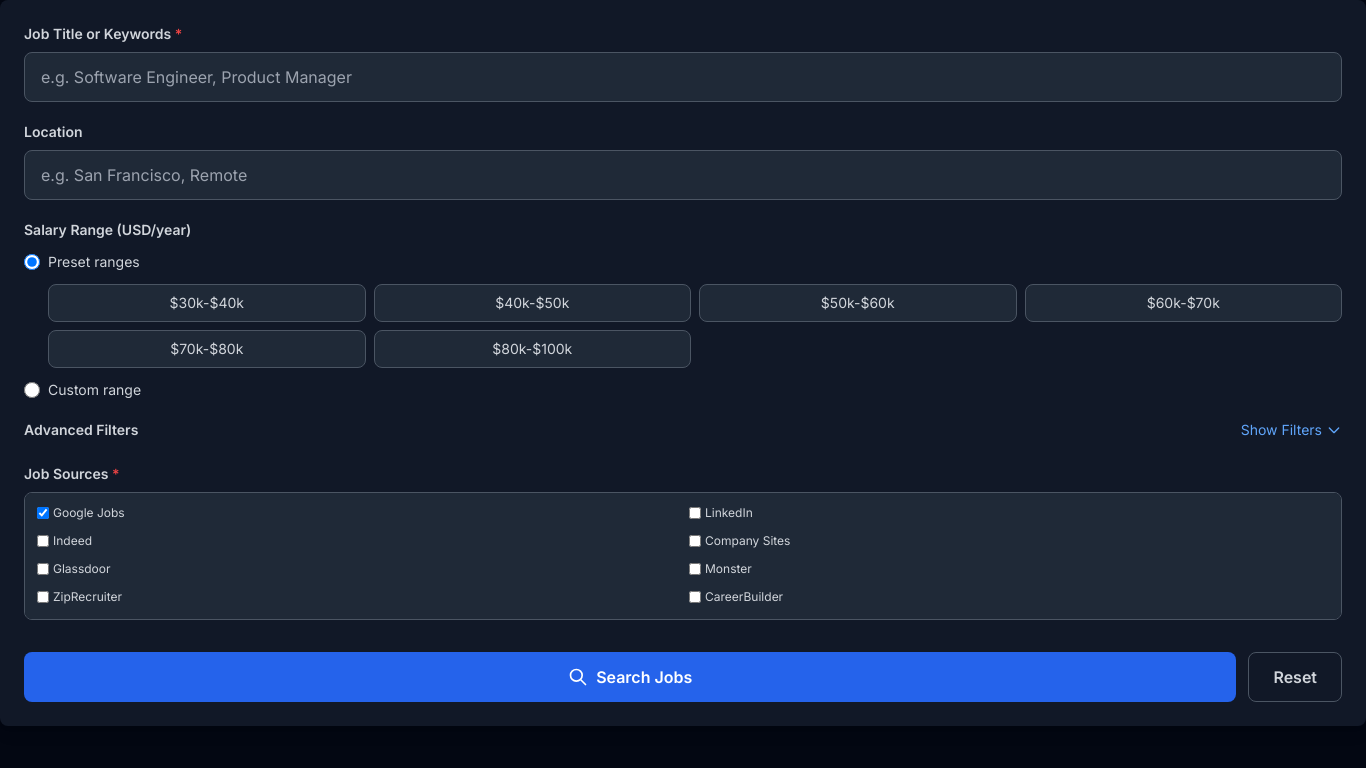
Test: EnhancedSearchForm › autocomplete › should show location suggestions
Type "san" into the field labelled "Location" at (683, 175), box [24, 150, 1342, 200]
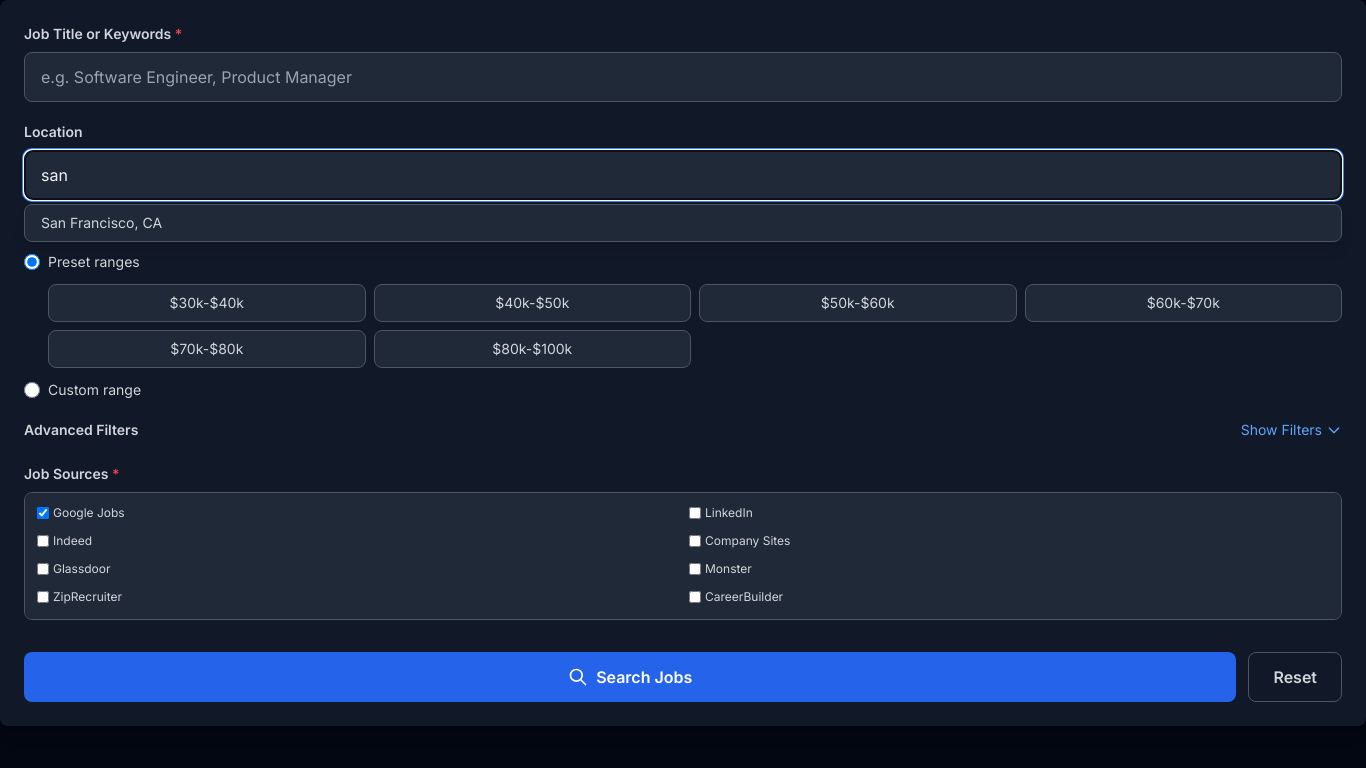
Check: the button "San Francisco, CA" is shown, box [25, 205, 1341, 241]
